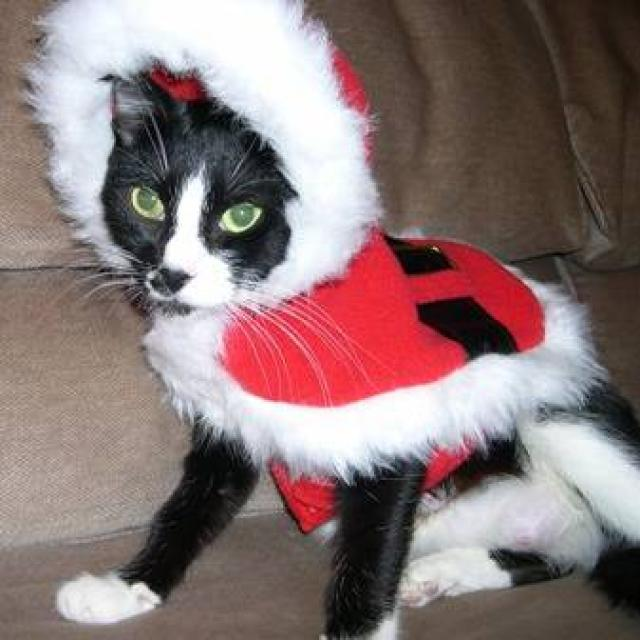cat: (26, 10, 640, 640)
